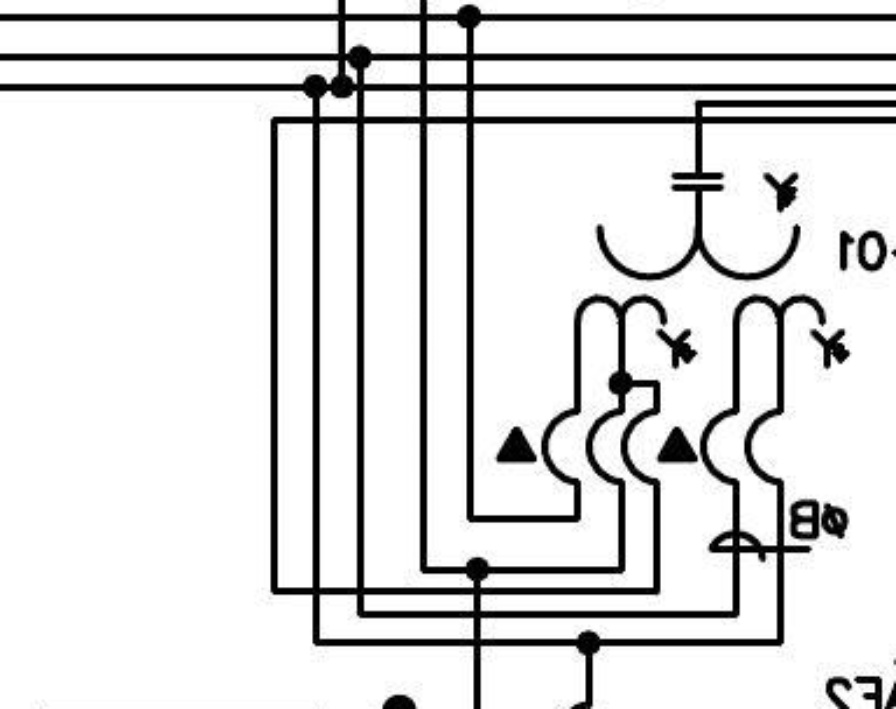115_cvt_3p: (572, 171, 853, 371)
